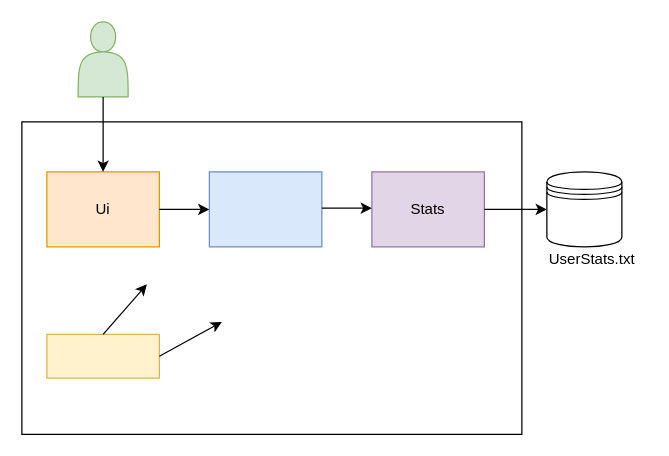
The diagram is 669 pixels wide and 456 high, and some of its shapes have lost their labels. Here are the shapes that lost their labels. From the top down, the centre of each, then its label:
[265,209]: Logic
[102,355]: Main
